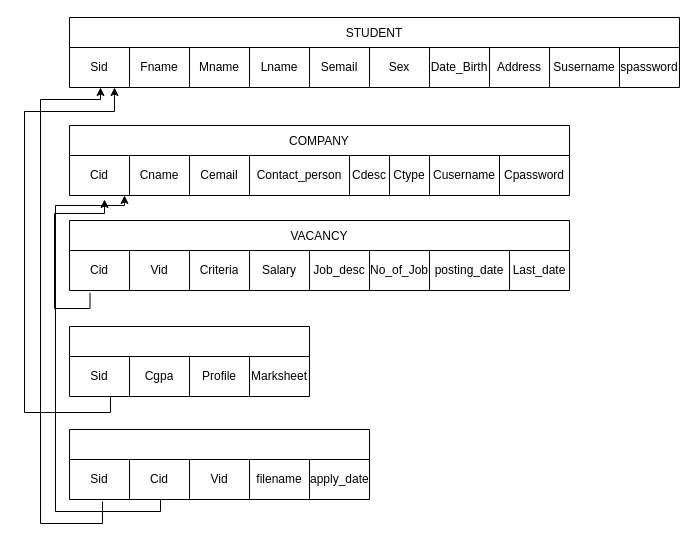
Image size: 697x549. Some labels were removed from this diagram. The shapes that lost their labels are listed below. From the top down, each one's box as (x1, y1, x2, y2) in pixels, then its label:
(68, 326, 310, 396): STUDENT DETAILS
(68, 428, 370, 500): APPLIES
